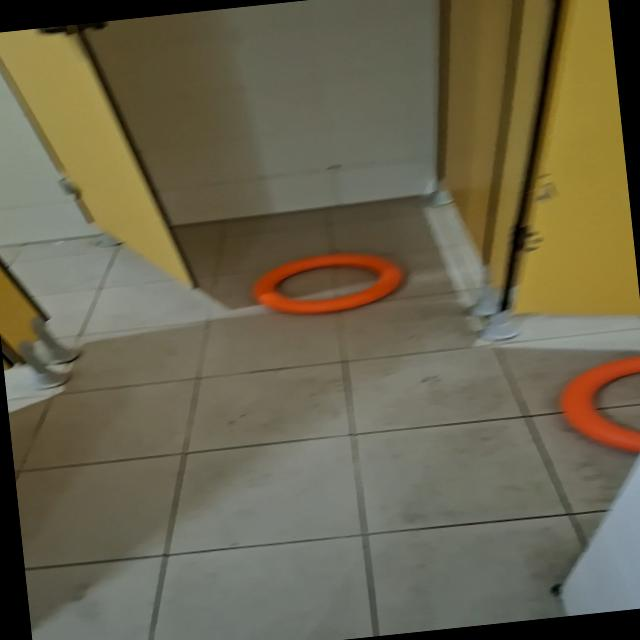note: (248, 244, 407, 320), (554, 354, 640, 461)
